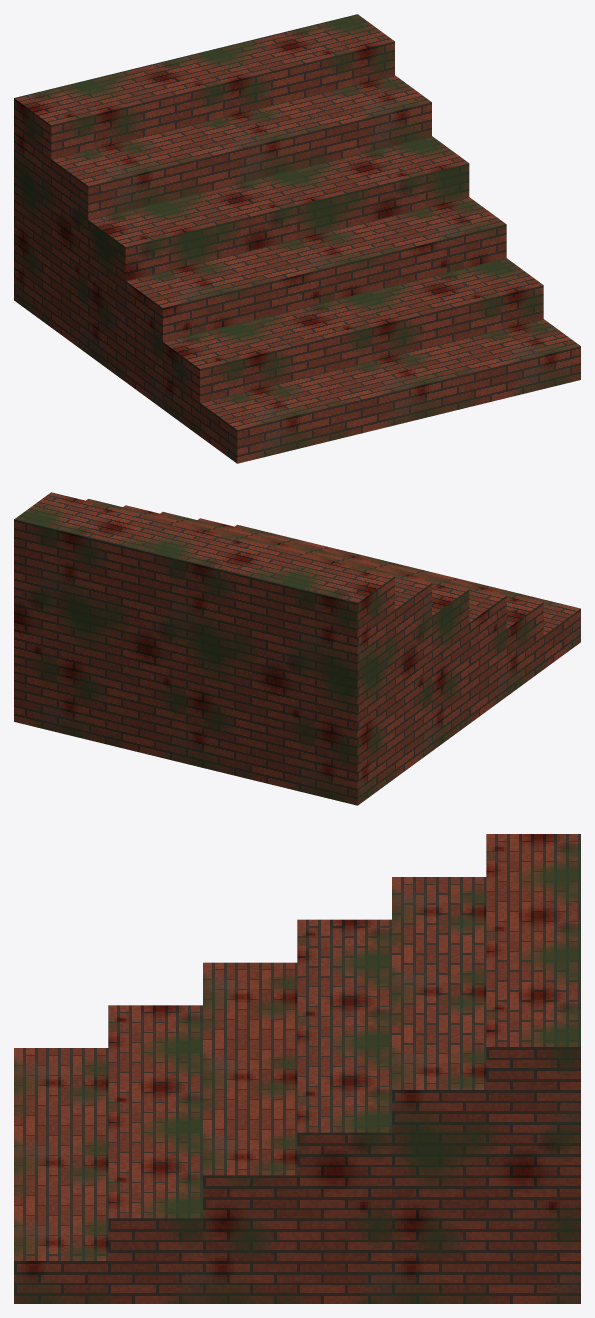
Rendered from oldline_stairs.glb.
The picture shows the model from 3 angles, top to bottom: view 1: azimuth 30°, elevation 25°; view 2: azimuth 150°, elevation 25°; view 3: azimuth 270°, elevation 25°; orthographic projection. The views are drawn at different scales.
Parts seen in each view (by area): view 1: Steps; view 2: Steps; view 3: Steps.
Part boxes in pixels (left/top/right/bottom): Steps: left=14, top=14, right=580, bottom=463; Steps: left=14, top=492, right=580, bottom=805; Steps: left=14, top=834, right=580, bottom=1303.
Size of what is drawn, in the model's own units: 1.6 by 0.9 by 1.8.
Materials: 1 (1 with a texture image).
